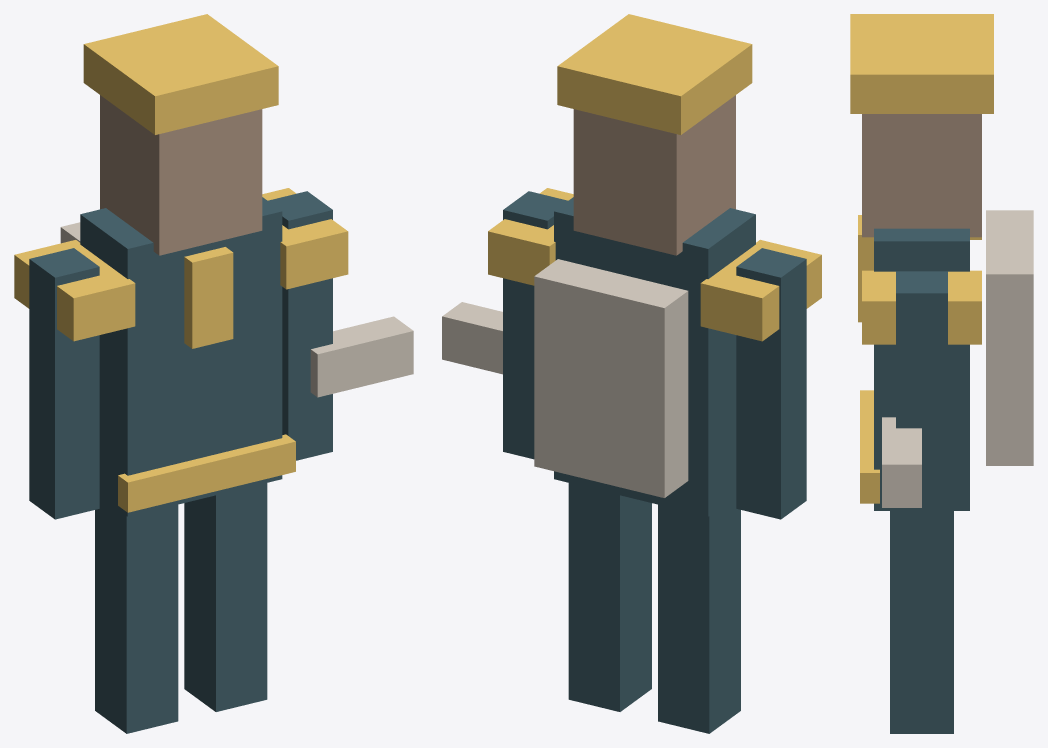
Rendered from 12_auren_brightlock_broker_of.glb.
The picture shows the model from 3 angles, left to right: view 1: azimuth 30°, elevation 25°; view 2: azimuth 150°, elevation 25°; view 3: azimuth 270°, elevation 25°; orthographic projection.
Visible parts, largest first — view 1: Auren Brightlock, Broker of; view 2: Auren Brightlock, Broker of; view 3: Auren Brightlock, Broker of.
Part boxes in pixels (<box>): Auren Brightlock, Broker of: <box>14,14,413,733</box>; Auren Brightlock, Broker of: <box>442,14,821,733</box>; Auren Brightlock, Broker of: <box>850,14,1033,733</box>.
Bounding box in the file's own units: 0.9462 × 1.67 × 0.4246.
